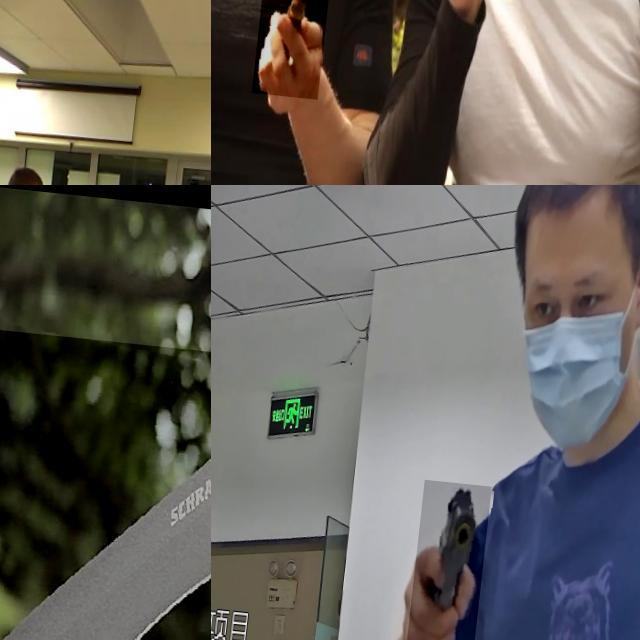-: (0, 324, 211, 640), (263, 0, 343, 94)
gun-knife-thesis - v11 Yolov5 augmented: (420, 473, 502, 640)
